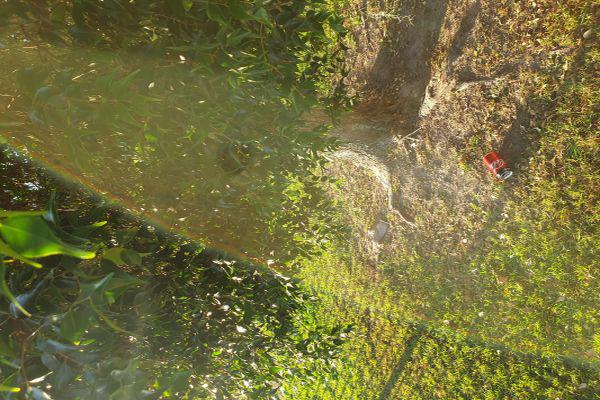Plastic Bottle: (482, 150, 513, 181)
